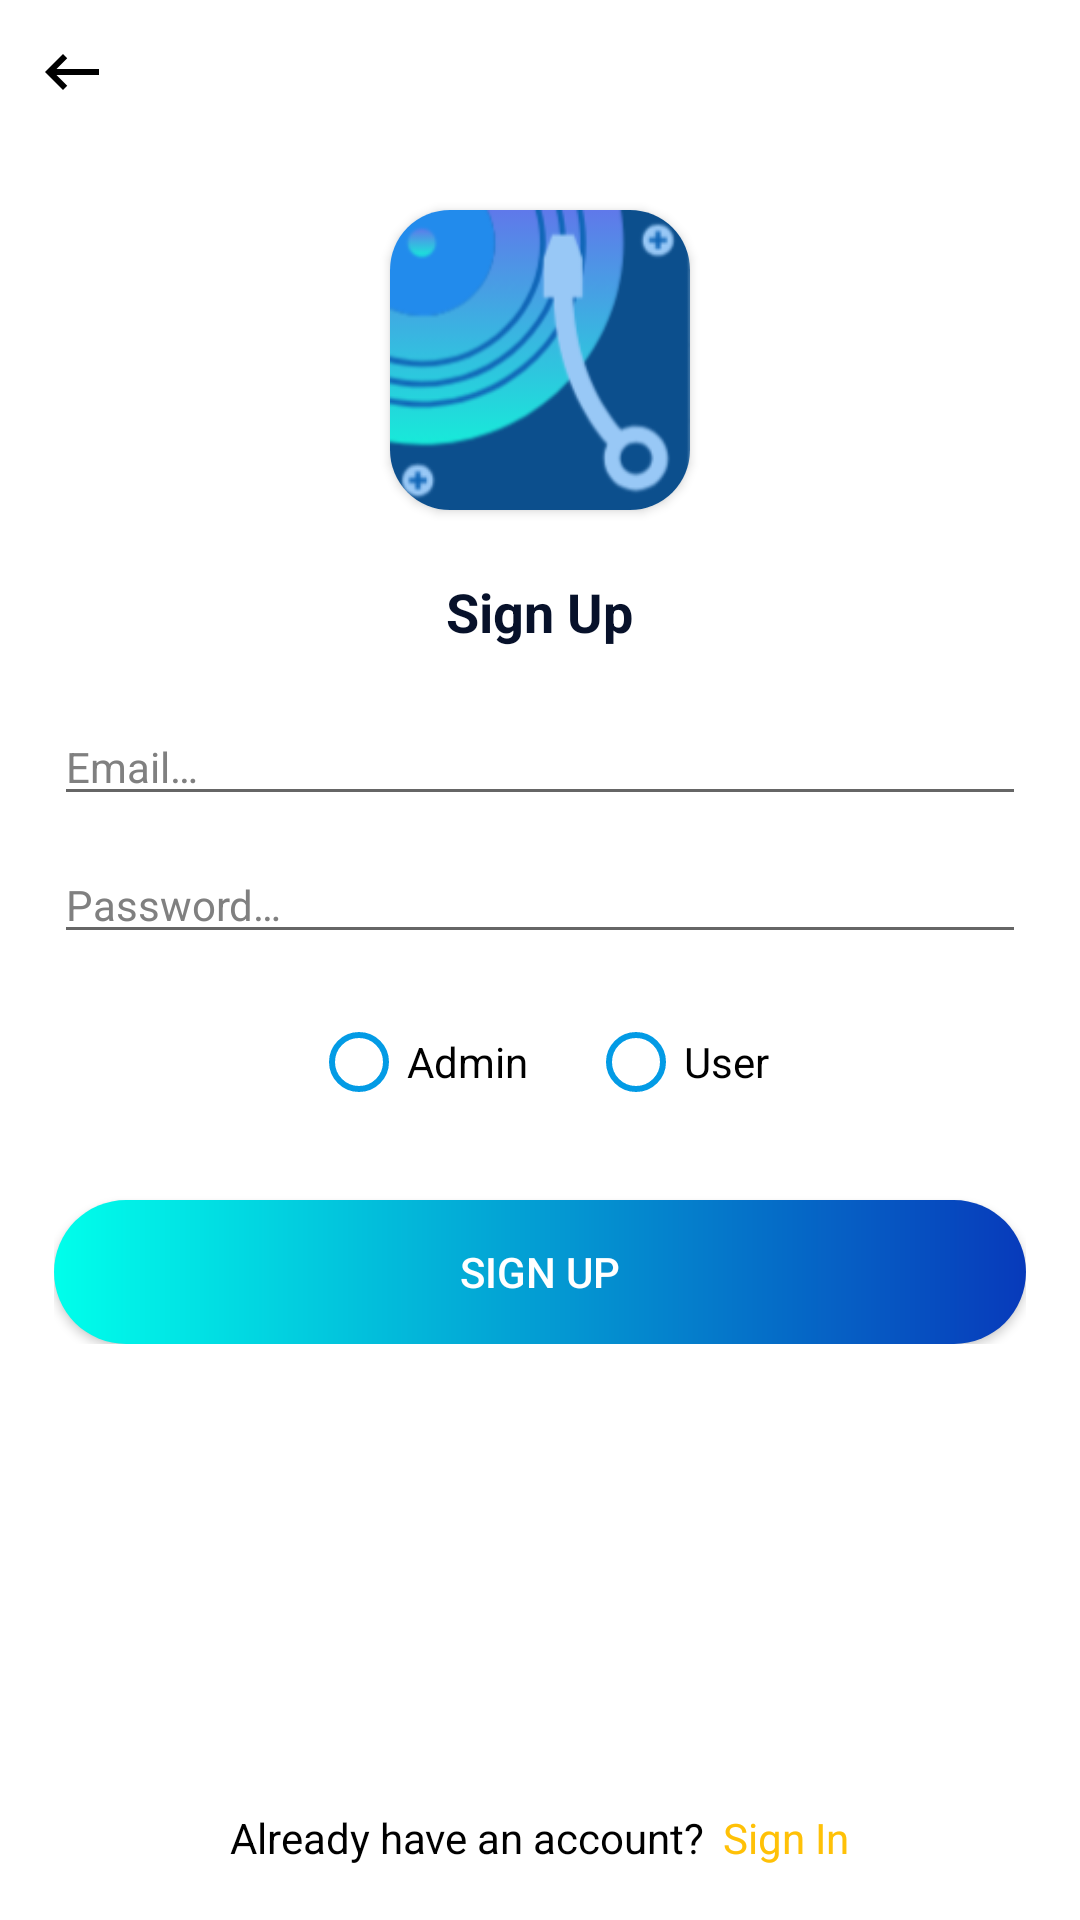

Where to tap for icons on this 1080px x 1920px app screen, as (x,y):
back: (72,72)
